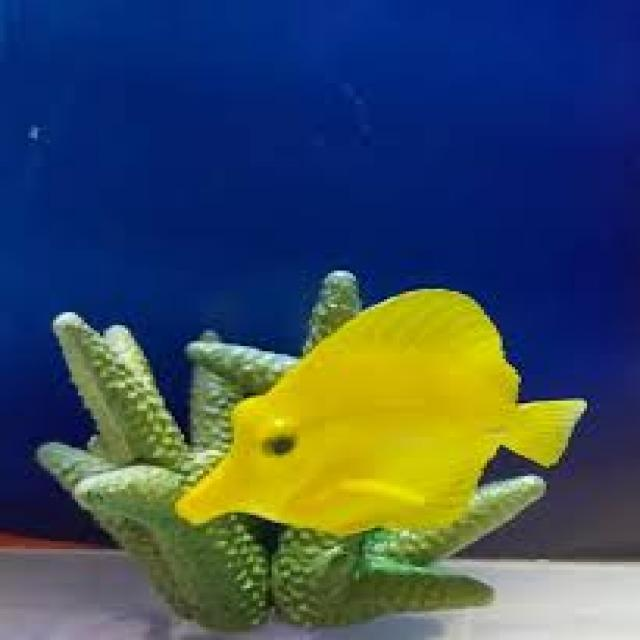YellowTang: (162, 261, 586, 557)
